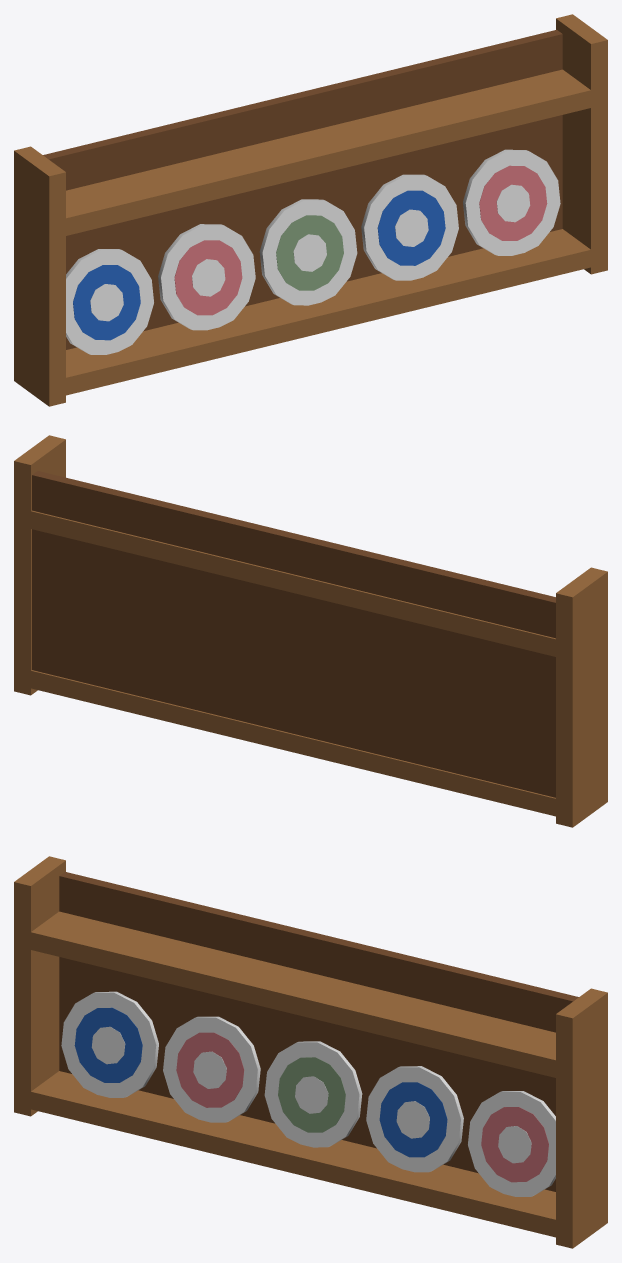
The model's file is plate_rack.glb.
3 renders of one model, top to bottom at view 1: azimuth 30°, elevation 25°; view 2: azimuth 150°, elevation 25°; view 3: azimuth 330°, elevation 25°, orthographic.
Visible parts, largest first — view 1: furniture-plate_rack; view 2: furniture-plate_rack; view 3: furniture-plate_rack.
Part boxes in pixels (bbox=[...]): furniture-plate_rack: bbox=[14, 14, 607, 406]; furniture-plate_rack: bbox=[14, 435, 607, 827]; furniture-plate_rack: bbox=[14, 856, 607, 1248].
Bounding box in the file's own units: 1.65 × 0.65 × 0.1801.
